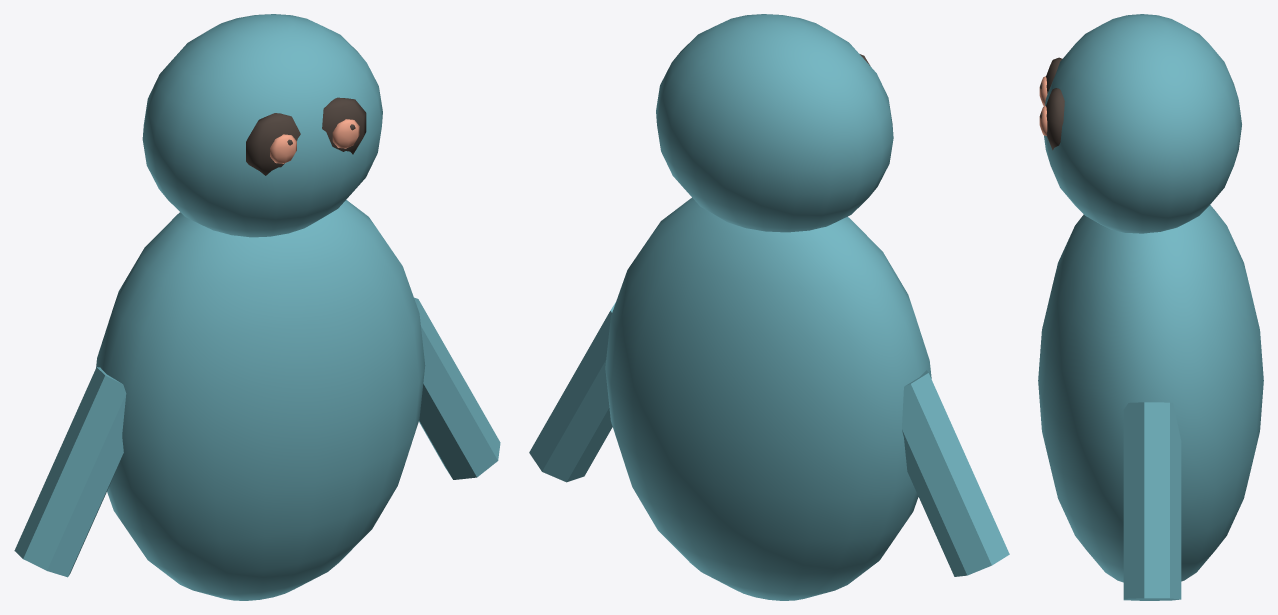
Rendered from monster_frost_elf.glb.
The picture shows the model from 3 angles, left to right: view 1: azimuth 30°, elevation 25°; view 2: azimuth 150°, elevation 25°; view 3: azimuth 270°, elevation 25°; orthographic projection. The views are drawn at different scales.
Parts seen in each view (by area): view 1: monster_frost_elf_root; view 2: monster_frost_elf_root; view 3: monster_frost_elf_root.
Part boxes in pixels (x1,y1,x2,y2): monster_frost_elf_root: [14, 14, 500, 600]; monster_frost_elf_root: [529, 14, 1009, 600]; monster_frost_elf_root: [1038, 14, 1263, 600].
Bounding box in the file's own units: 1.57 × 1.8 × 0.6686.
